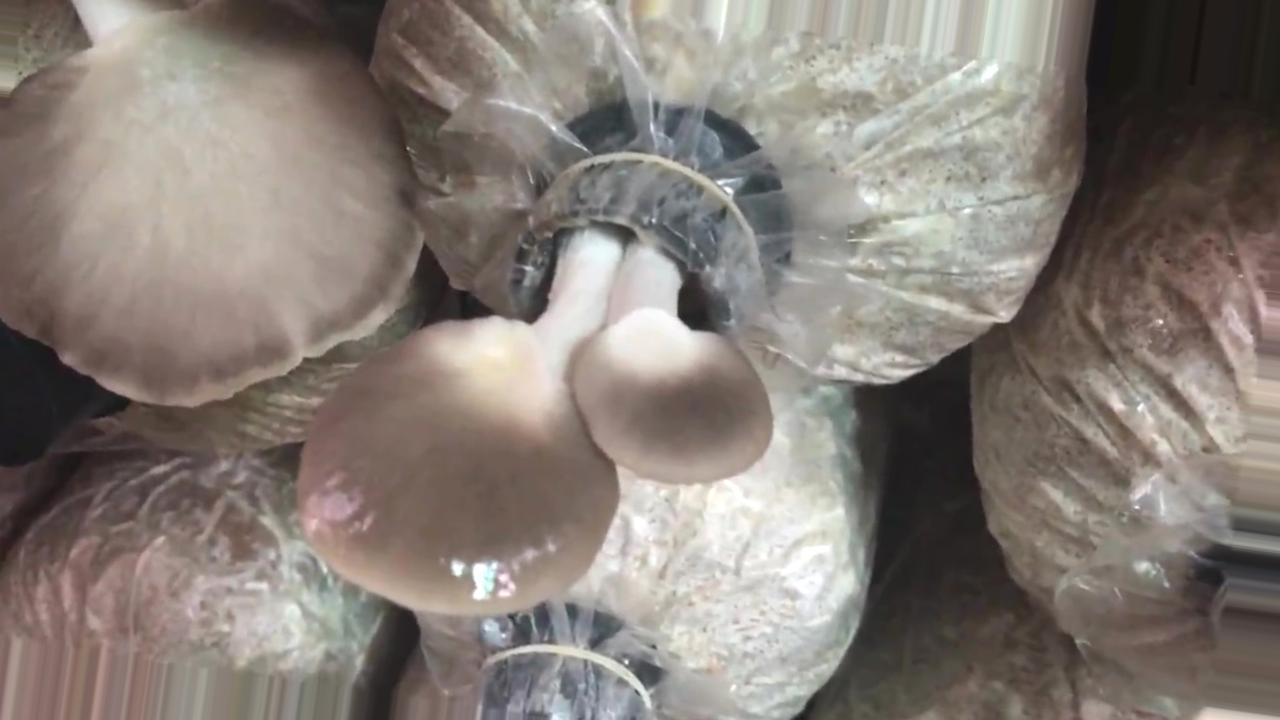nam: (293, 162, 778, 623), (1, 1, 425, 413)
